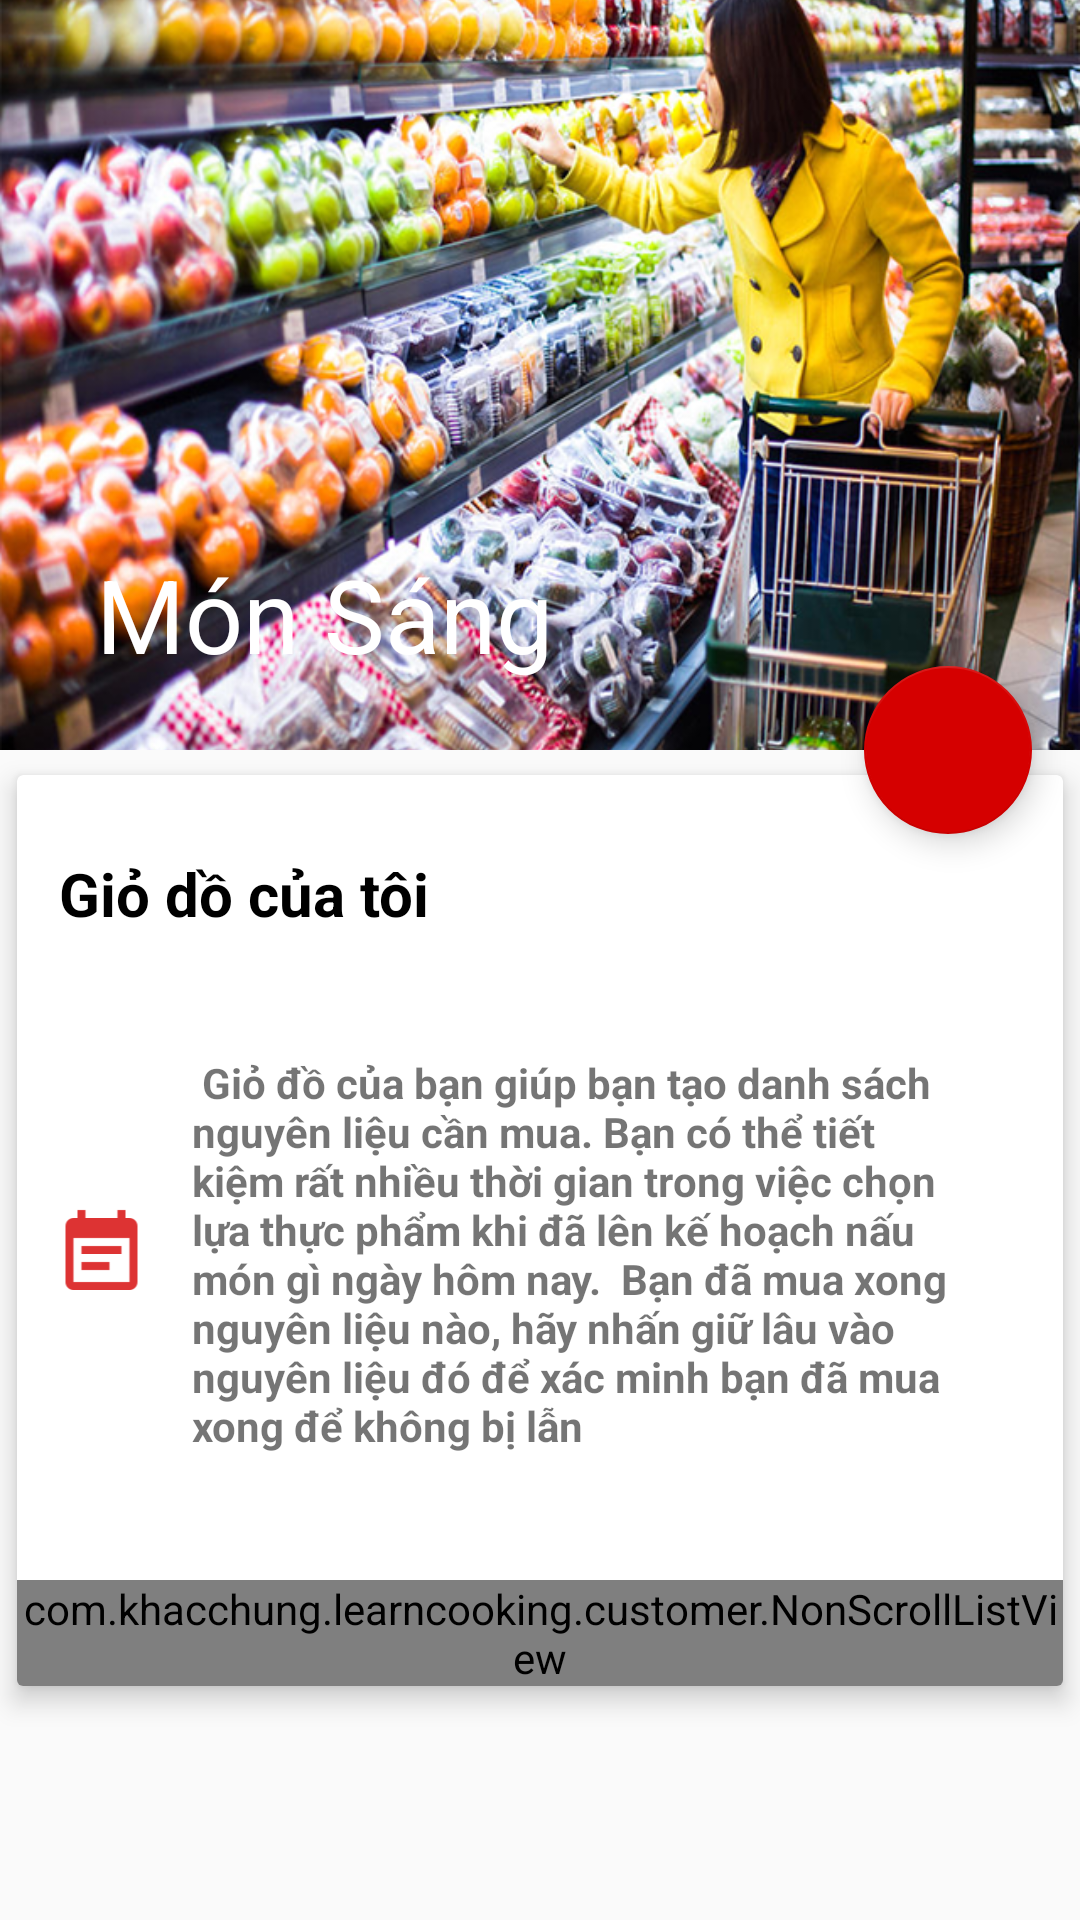

Point at icon controls on the screen. Image size 1080x1920, points as [x,y].
note: [101,1250]
